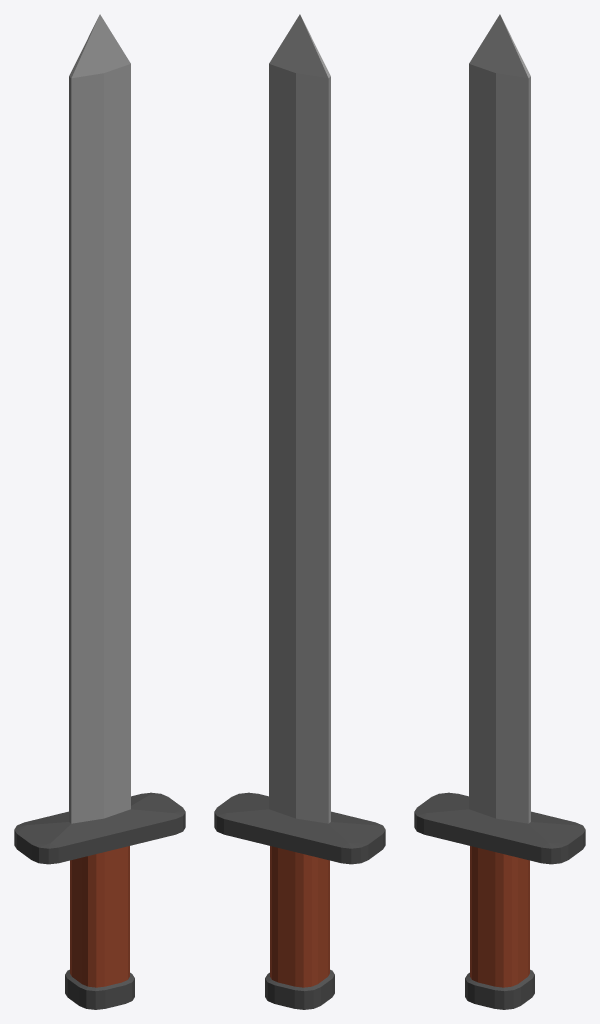
Rendered from Schwert_Player.fbx.
3 views of the same model, side by side, from view 1: azimuth 30°, elevation 25°; view 2: azimuth 150°, elevation 25°; view 3: azimuth 330°, elevation 25° (orthographic).
Visible parts, largest first — view 1: Plane; view 2: Plane; view 3: Plane.
Part boxes in pixels (left/top/right/bottom): Plane: left=14, top=14, right=185, bottom=1009; Plane: left=214, top=14, right=385, bottom=1009; Plane: left=414, top=14, right=585, bottom=1009.
Bounding box in the file's own units: 15.09 × 93.46 × 5.94.
